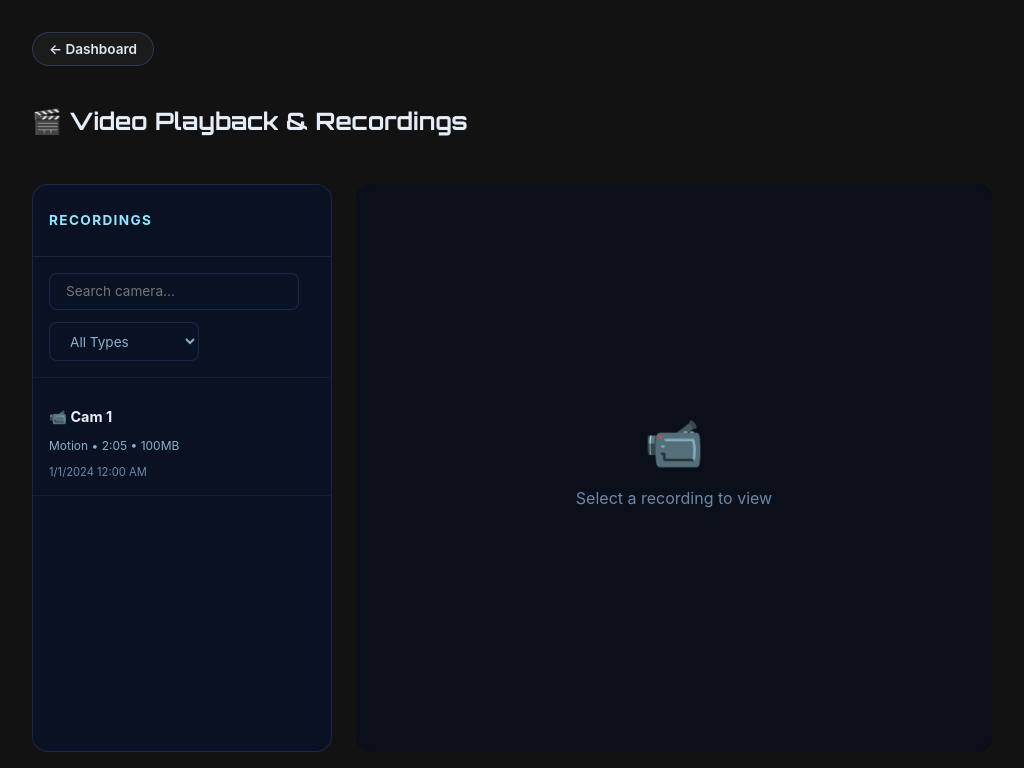
Test: VideoPlayback › displays duration correctly for selected recording
Click the heading "📹 Cam 1": (81, 417) x1=49 y1=408 x2=112 y2=426
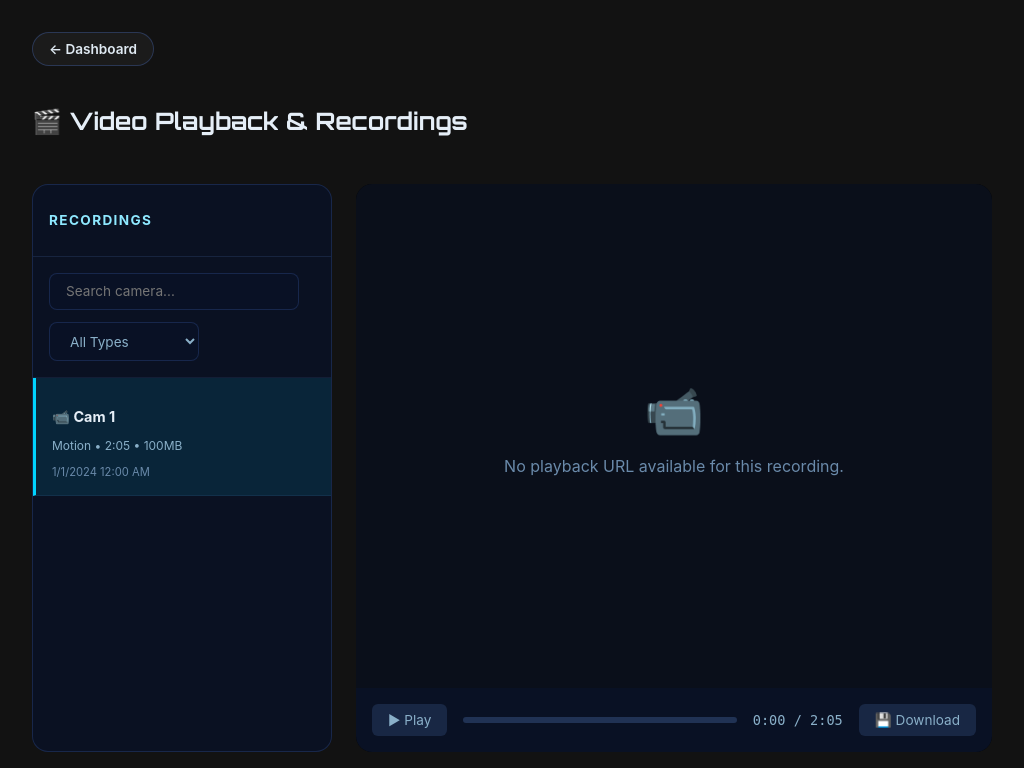
Expected: the text "0:00 / 2:05" is shown, x1=753 y1=712 x2=843 y2=728
